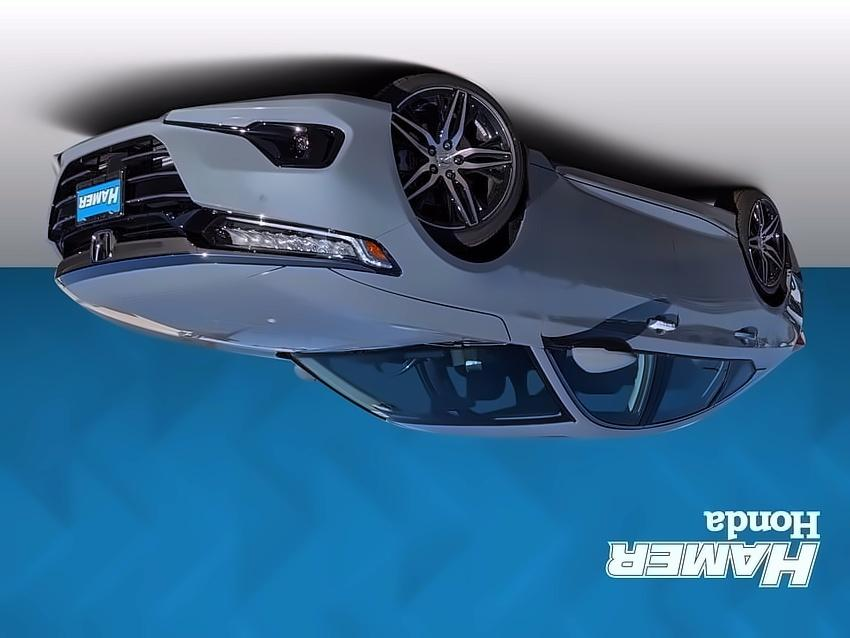Car hood: (48, 260, 509, 357)
Driver-s door - -F-R-: (526, 131, 693, 448)
Fender - -F-R-: (337, 153, 560, 351)
Front bumper: (43, 94, 426, 281)
Headlight - -R-: (201, 213, 404, 276)
Passenger-s door - -R-R-: (619, 152, 781, 454)
Side bumper - -R-: (510, 142, 751, 265)
